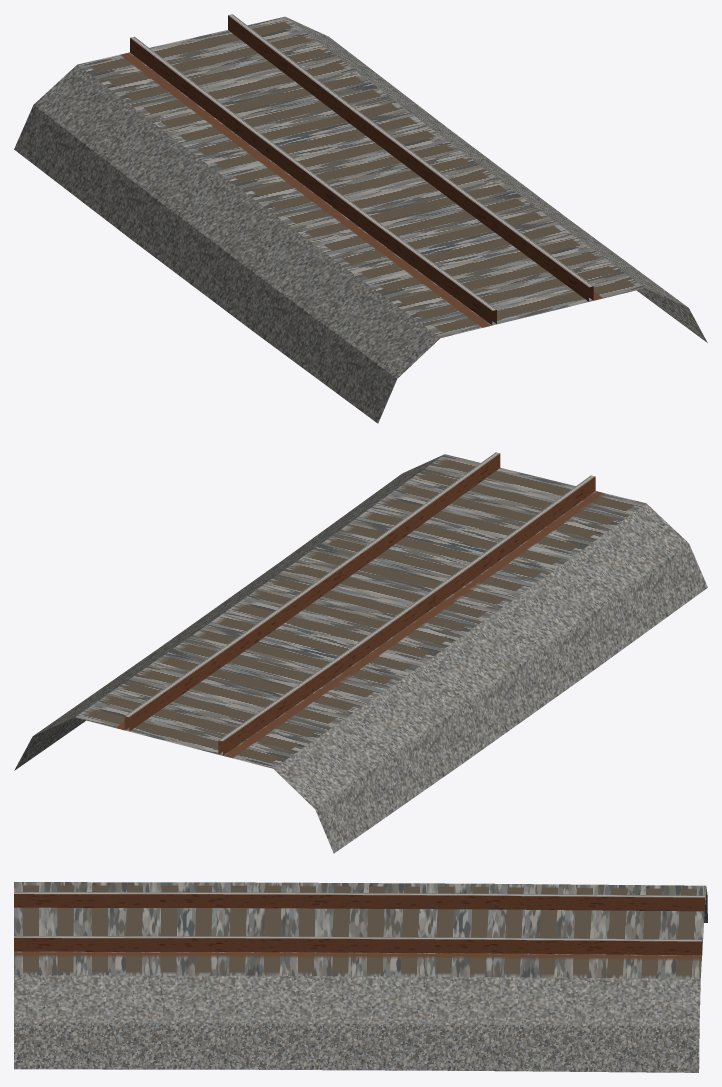
Rendered from rail_track_curve_r400_10m_r_v2_lod1.glb.
3 renders of one model, top to bottom at view 1: azimuth 30°, elevation 25°; view 2: azimuth 150°, elevation 25°; view 3: azimuth 270°, elevation 25°, orthographic. The views are drawn at different scales.
Parts seen in each view (by area): view 1: rail_track_curve_r400_10m_r_v2_lod1; view 2: rail_track_curve_r400_10m_r_v2_lod1; view 3: rail_track_curve_r400_10m_r_v2_lod1.
Part boxes in pixels (left/top/right/bottom): rail_track_curve_r400_10m_r_v2_lod1: left=14, top=14, right=707, bottom=423; rail_track_curve_r400_10m_r_v2_lod1: left=14, top=452, right=707, bottom=853; rail_track_curve_r400_10m_r_v2_lod1: left=14, top=882, right=707, bottom=1072.
Bounding box in the file's own units: 5.27 × 1.27 × 10.06.
2 materials, 2 textured.
